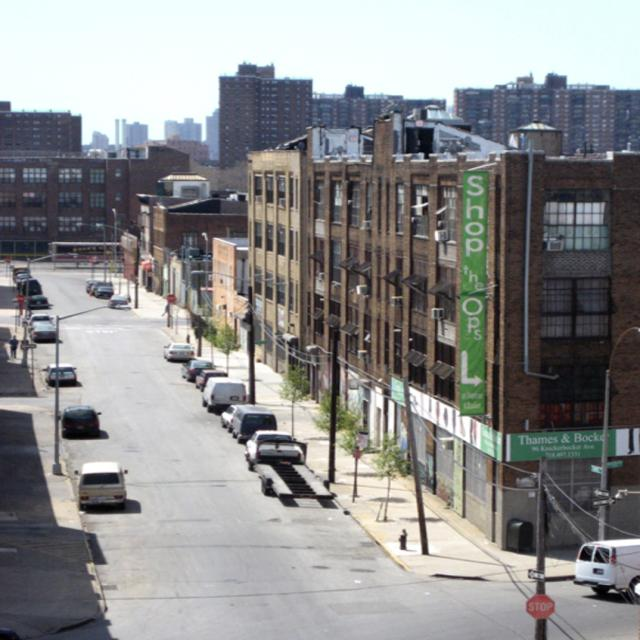car: (74, 457, 128, 509), (57, 405, 103, 436)
